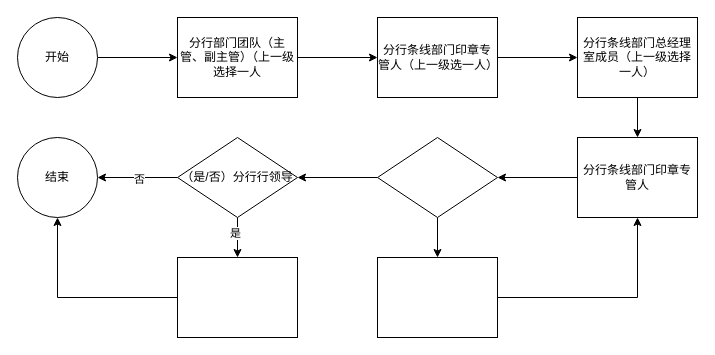
Some shapes in this 715 by 355 pixel diagram are drawn without their labels. Here are the shapes that lost their labels. From the top down, the centre of each, then its label:
pixel 437 177: 是 /否） 分行条线部门总经理室其他成员
pixel 237 297: 分行条线部门文书
pixel 437 297: 分行条线部门总经理室其他成员（上一级选一人）
